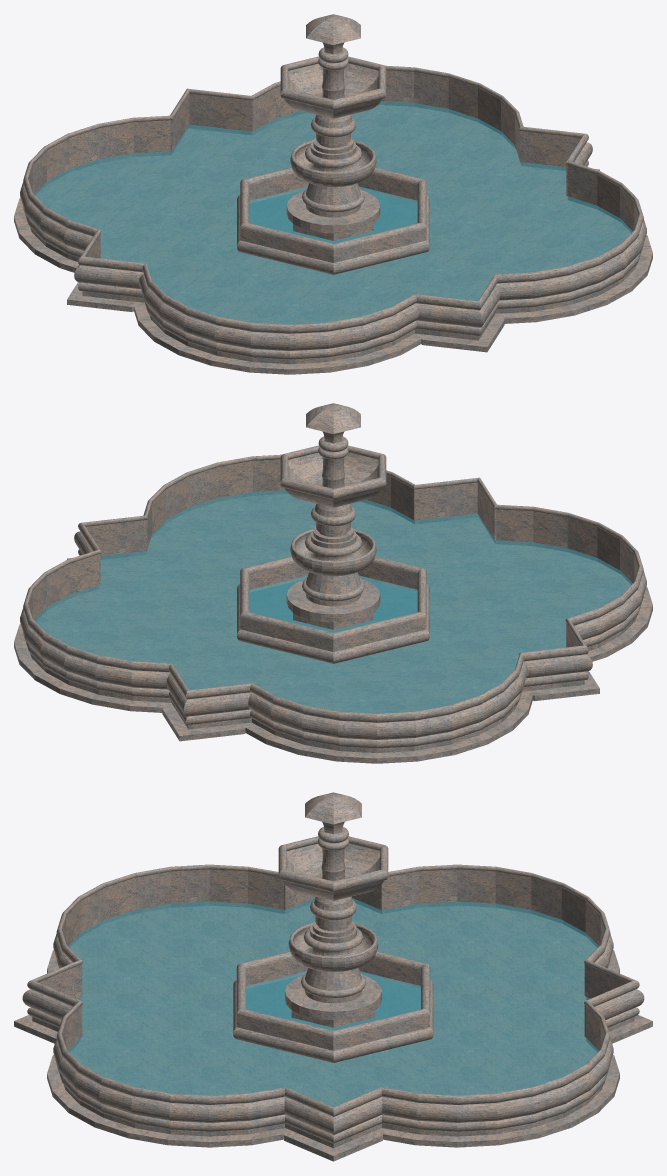
The model's file is fontaine.fbx.
The picture shows the model from 3 angles, top to bottom: view 1: azimuth 30°, elevation 25°; view 2: azimuth 150°, elevation 25°; view 3: azimuth 270°, elevation 25°; orthographic projection. The views are drawn at different scales.
Parts seen in each view (by area): view 1: Composant_1_1; view 2: Composant_1_1; view 3: Composant_1_1.
Boxes of the visible parts, <box> form: Composant_1_1: <box>14,14,652,374</box>; Composant_1_1: <box>14,403,652,763</box>; Composant_1_1: <box>14,792,652,1161</box>.
Bounding box in the file's own units: 4533 × 1808 × 4533.
